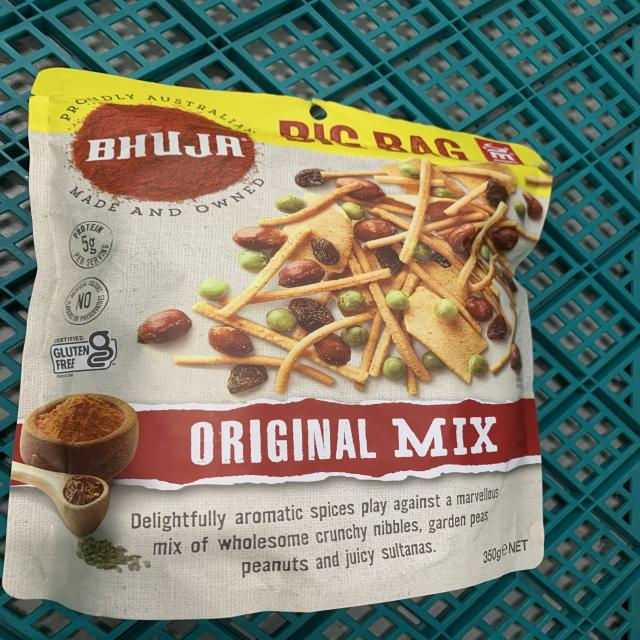object_name: (28, 87, 529, 590)
